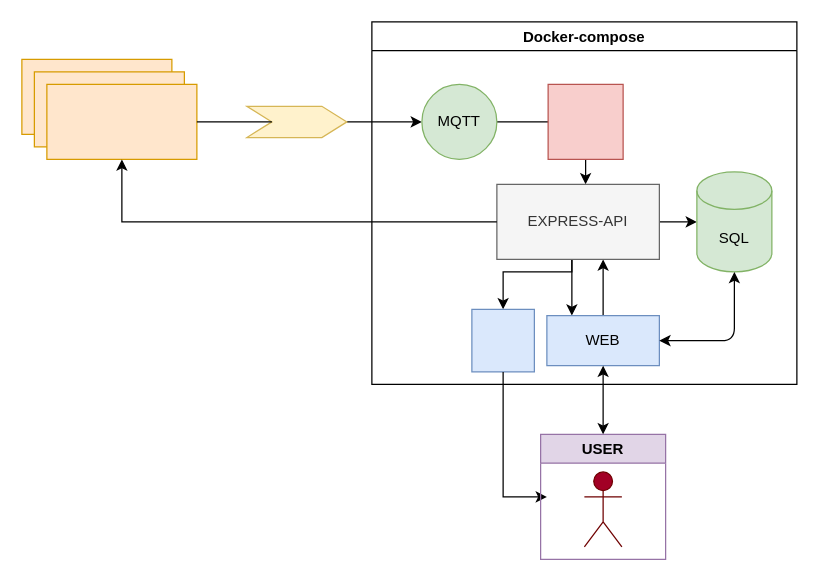
Image size: 819x581. Some labels were removed from this diagram. The shapes that lost their labels are listed below. From the top down, each one's centre as x and y in pixels, then its label:
(x=121, y=121): ESP/Wemos
(x=296, y=121): JSON
(x=585, y=121): node-red
(x=502, y=340): Telegram-Bot
